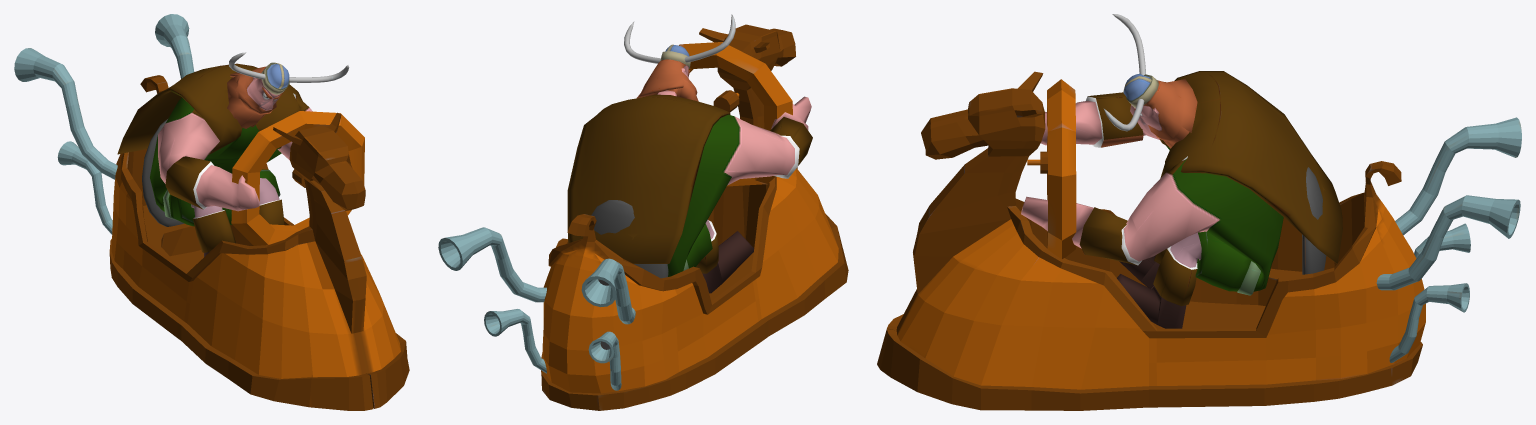
Rendered from vikingoGiroIzq_000562.obj.
3 views of the same model, side by side, from view 1: azimuth 30°, elevation 25°; view 2: azimuth 150°, elevation 25°; view 3: azimuth 270°, elevation 25° (orthographic). The views are drawn at different scales.
Visible parts, largest first — view 1: kartVikingo, Vikingo; view 2: kartVikingo, Vikingo; view 3: kartVikingo, Vikingo.
Part boxes in pixels (left/top/right/bottom): kartVikingo: left=14, top=14, right=409, bottom=410; Vikingo: left=117, top=52, right=349, bottom=256; kartVikingo: left=438, top=24, right=848, bottom=410; Vikingo: left=567, top=14, right=812, bottom=293; kartVikingo: left=877, top=71, right=1521, bottom=410; Vikingo: left=1021, top=14, right=1342, bottom=328.
Size of the model in its own units: 3.97 by 5.96 by 10.31.
2 materials, 2 textured.
